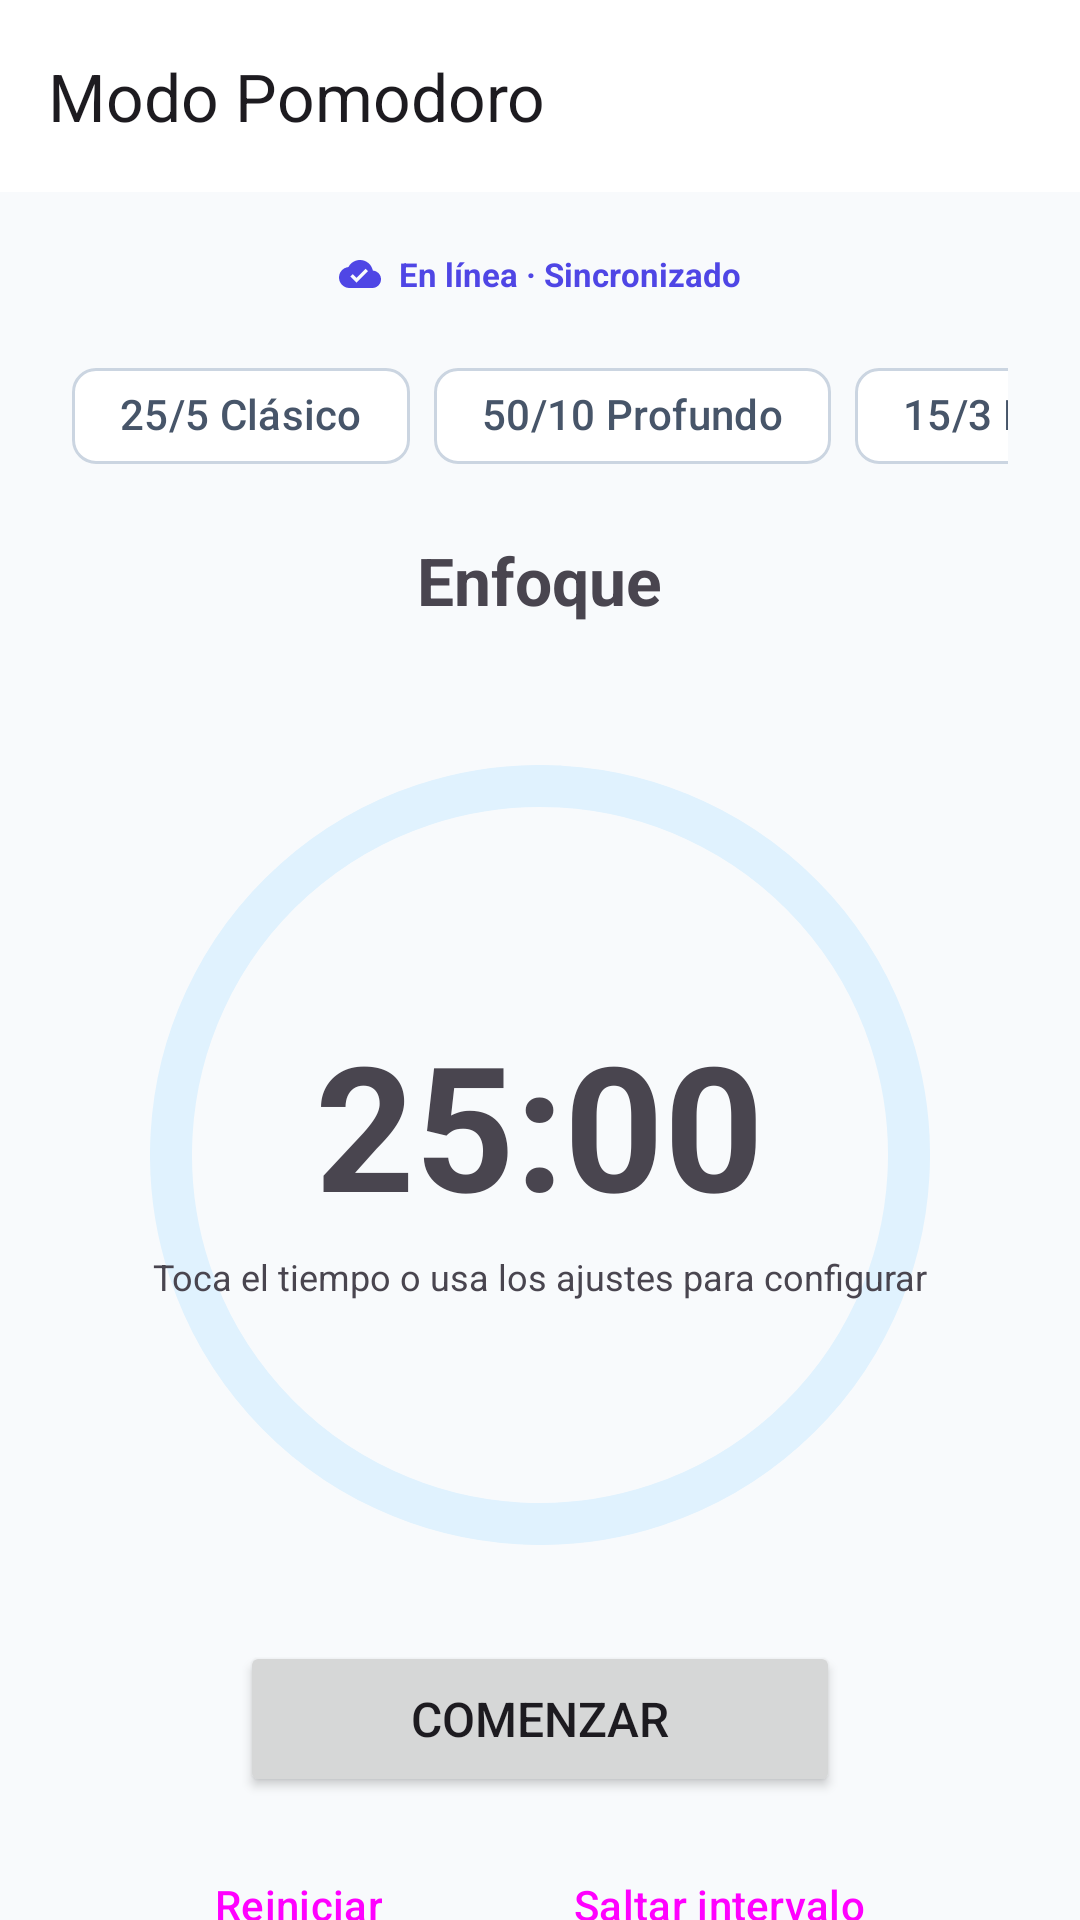

Where icons sit on this 1080x1920 app screen, as (left=x1, top=y1, right=x2, bottom=y2):
cloud done: (left=339, top=260, right=381, bottom=288)
